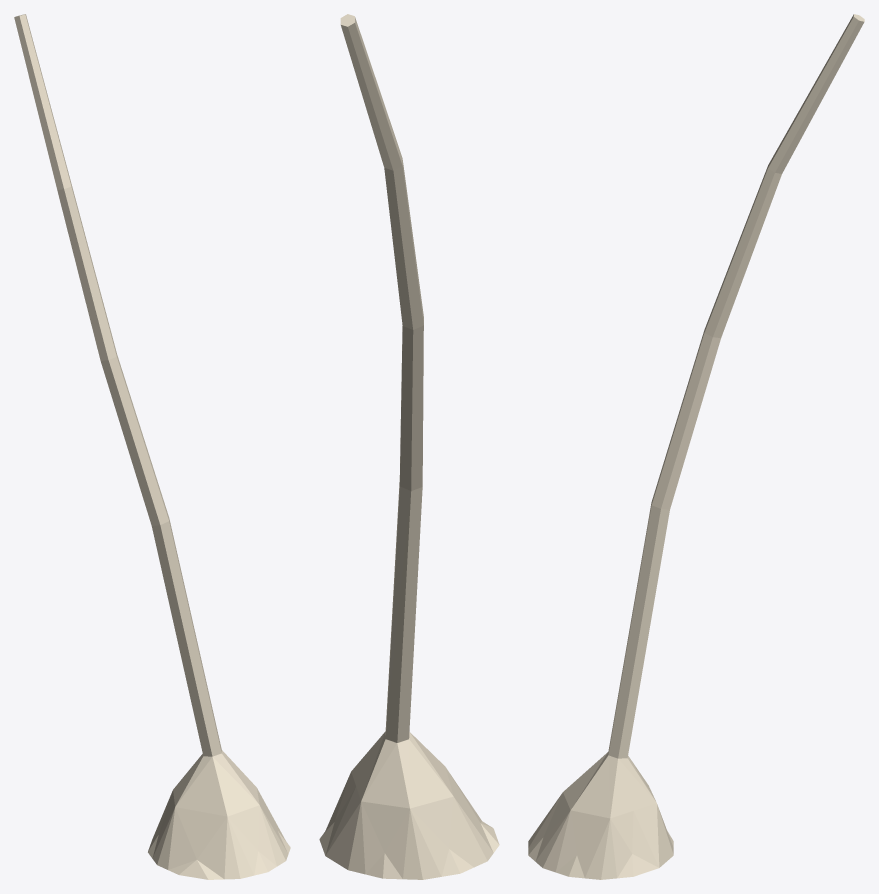
The model's file is Yucca2_branch.fbx.
3 renders of one model, left to right at view 1: azimuth 30°, elevation 25°; view 2: azimuth 150°, elevation 25°; view 3: azimuth 270°, elevation 25°, orthographic. The views are drawn at different scales.
Visible parts, largest first — view 1: Foliage020; view 2: Foliage020; view 3: Foliage020.
Boxes of the visible parts, x1,y1,x2,y2 form: Foliage020: (14, 14, 290, 879); Foliage020: (319, 14, 499, 879); Foliage020: (528, 14, 864, 879).
Size of the model in its own units: 73.12 by 373 by 143.
